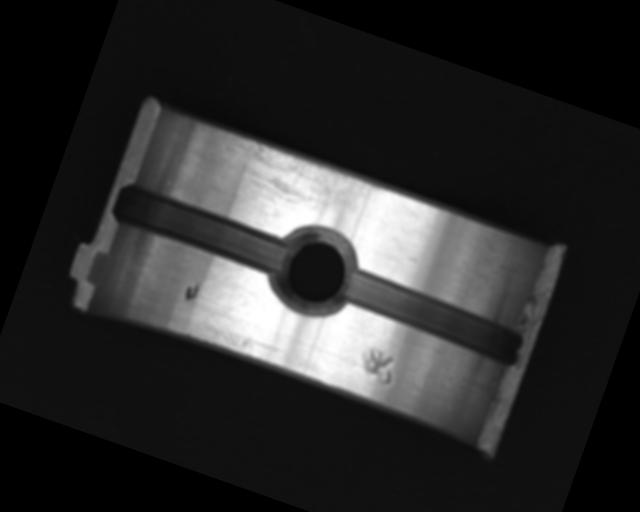blot: (182, 279, 200, 302)
bruise: (355, 345, 400, 387)
gap: (336, 265, 530, 372), (108, 180, 293, 280)
hole: (262, 215, 369, 328)
scratch: (207, 130, 388, 237)
